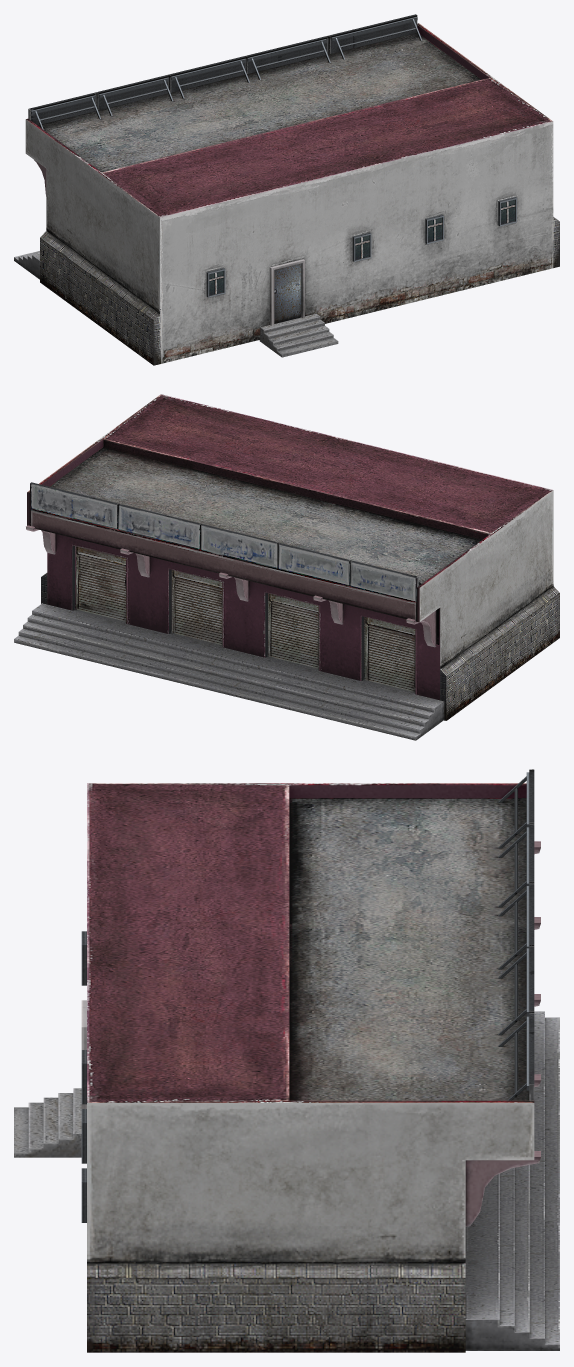
File: buildings_21.FBX
The picture shows the model from 3 angles, top to bottom: view 1: azimuth 30°, elevation 25°; view 2: azimuth 150°, elevation 25°; view 3: azimuth 270°, elevation 25°; orthographic projection. The views are drawn at different scales.
Visible parts, largest first — view 1: Object046; view 2: Object046; view 3: Object046.
Part boxes in pixels (<box>): Object046: <box>14,14,559,365</box>; Object046: <box>14,394,559,740</box>; Object046: <box>14,769,559,1352</box>.
Size of the model in its own units: 1136 by 794 by 423.
Materials: 1 (1 with a texture image).
